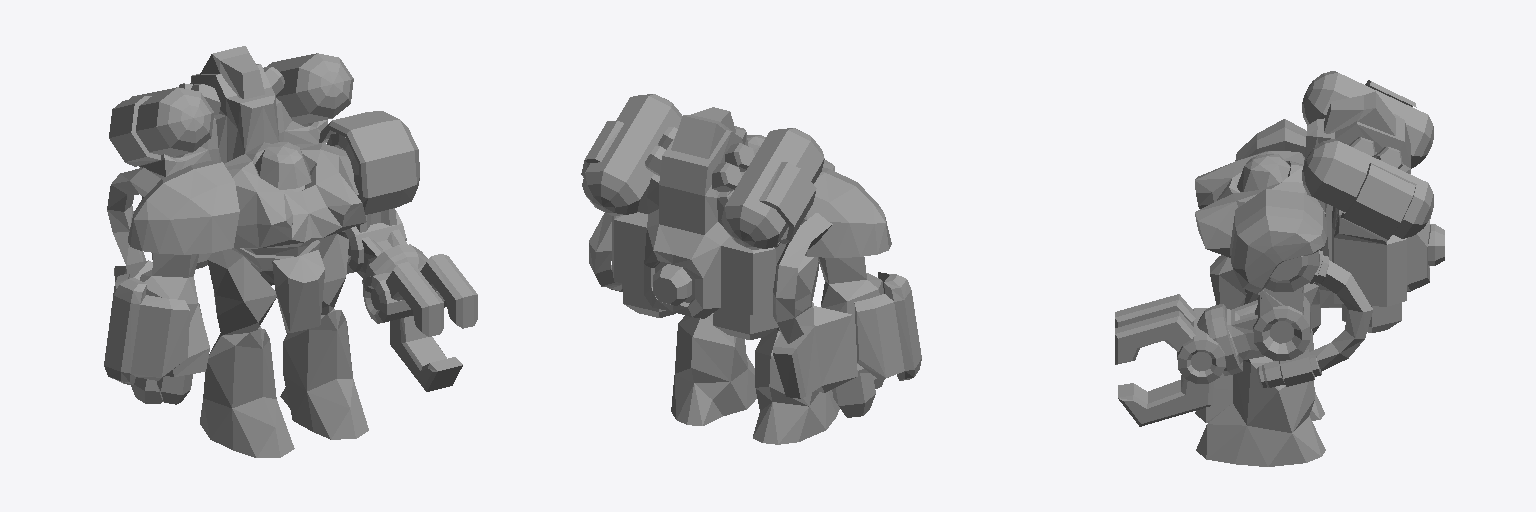
The model's file is Marauder.obj.
3 views of the same model, side by side, from view 1: azimuth 30°, elevation 25°; view 2: azimuth 150°, elevation 25°; view 3: azimuth 270°, elevation 25° (orthographic).
Parts seen in each view (by area): view 1: Marauder_Engineer.m3.003; view 2: Marauder_Engineer.m3.003; view 3: Marauder_Engineer.m3.003.
Part boxes in pixels (bbox=[...]): Marauder_Engineer.m3.003: bbox=[104, 46, 477, 457]; Marauder_Engineer.m3.003: bbox=[581, 94, 921, 444]; Marauder_Engineer.m3.003: bbox=[1115, 71, 1444, 466].
Size of the model in its own units: 1.14 by 1.21 by 1.09.